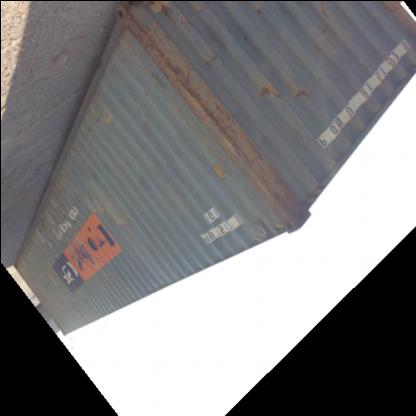Damage: (190, 112, 287, 210), (123, 0, 189, 98), (284, 80, 318, 108), (86, 112, 112, 145), (42, 198, 63, 230), (197, 47, 223, 72), (67, 242, 90, 268), (256, 85, 282, 105)
